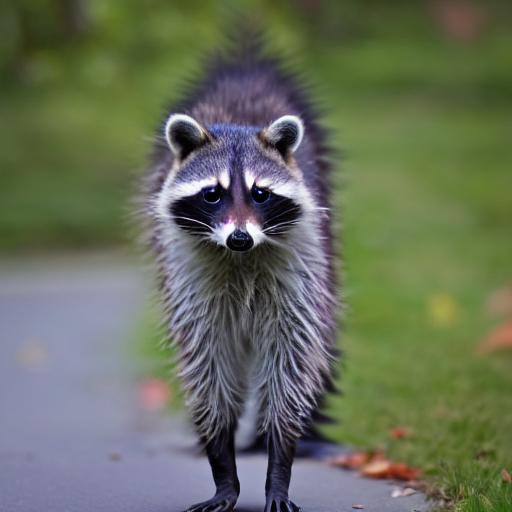raccoon: (135, 62, 348, 438)
